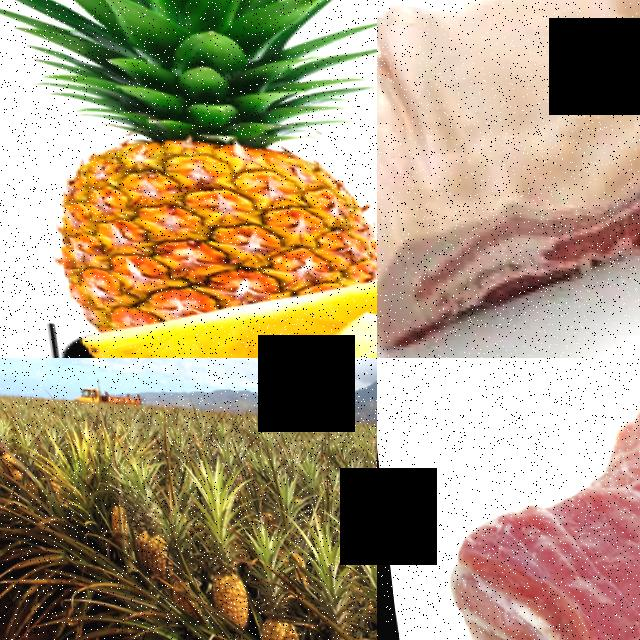pineapple: (0, 50, 377, 298), (218, 284, 377, 358), (195, 536, 242, 625), (247, 585, 292, 640), (306, 603, 362, 640)
pork belly: (377, 0, 640, 358), (408, 358, 640, 640)
